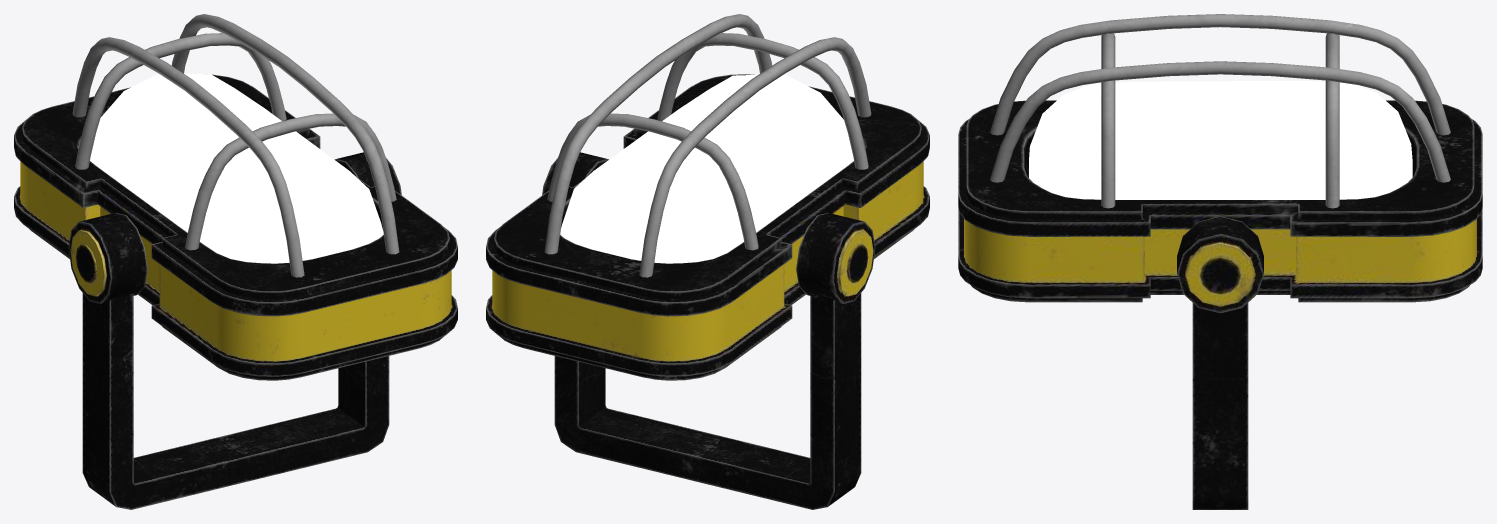
The model's file is small-lamp-01.glb.
The picture shows the model from 3 angles, left to right: view 1: azimuth 30°, elevation 25°; view 2: azimuth 150°, elevation 25°; view 3: azimuth 270°, elevation 25°; orthographic projection. The views are drawn at different scales.
Visible parts, largest first — view 1: small_lamp_1; view 2: small_lamp_1; view 3: small_lamp_1.
Part boxes in pixels (x1=…): small_lamp_1: x1=14, y1=14, x2=457, y2=509; small_lamp_1: x1=486, y1=14, x2=929, y2=509; small_lamp_1: x1=958, y1=14, x2=1482, y2=509.
Size of the model in its own units: 0.2361 by 0.3029 by 0.349.
2 materials, 1 textured.
